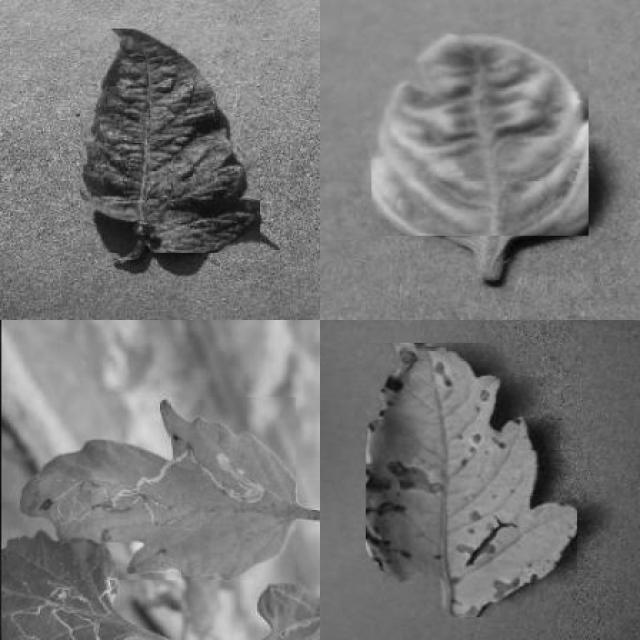Leaf Miner: (18, 397, 296, 580)
Septoria: (366, 343, 577, 617)
Spider Mites: (80, 28, 260, 253)
Yellow Leaf Curl Virus: (372, 34, 588, 236)
